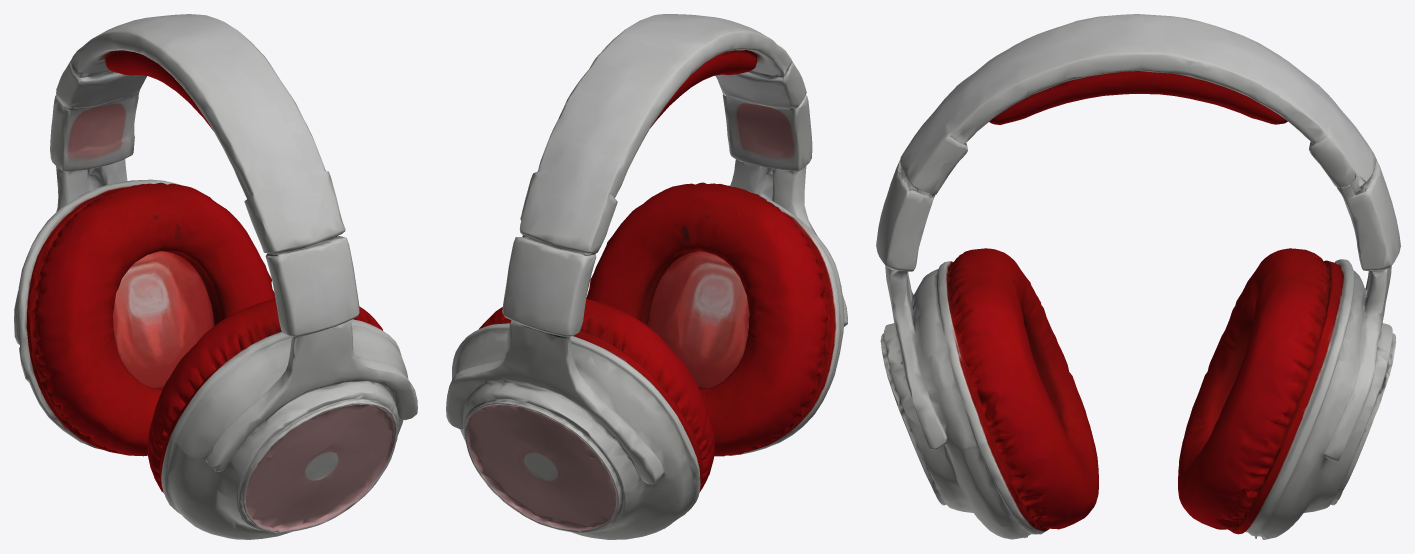
Rendered from headphones.glb.
3 views of the same model, side by side, from view 1: azimuth 30°, elevation 25°; view 2: azimuth 150°, elevation 25°; view 3: azimuth 270°, elevation 25° (orthographic). The views are drawn at different scales.
Visible parts, largest first — view 1: tripo_node_dde8ca3b-c066-4c93-b2f4-555090aea7b9; view 2: tripo_node_dde8ca3b-c066-4c93-b2f4-555090aea7b9; view 3: tripo_node_dde8ca3b-c066-4c93-b2f4-555090aea7b9.
Part boxes in pixels (x1,y1,x2,y2): tripo_node_dde8ca3b-c066-4c93-b2f4-555090aea7b9: (14, 14, 417, 539); tripo_node_dde8ca3b-c066-4c93-b2f4-555090aea7b9: (446, 14, 847, 539); tripo_node_dde8ca3b-c066-4c93-b2f4-555090aea7b9: (876, 14, 1400, 539).
Bounding box in the file's own units: 0.5494 × 1 × 0.9796.
1 material, 1 textured.
